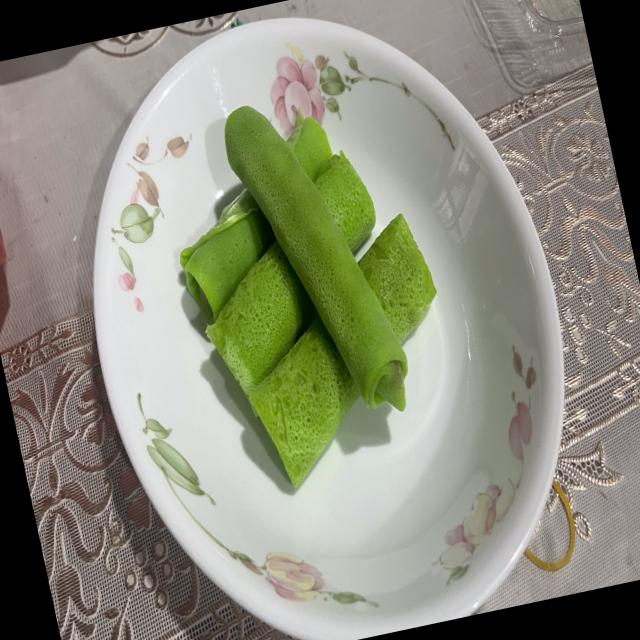Kuih-Ketayap: (224, 106, 407, 410), (248, 316, 360, 486), (206, 241, 315, 394), (180, 188, 274, 320), (358, 214, 435, 342), (315, 152, 375, 252), (284, 111, 332, 181)
